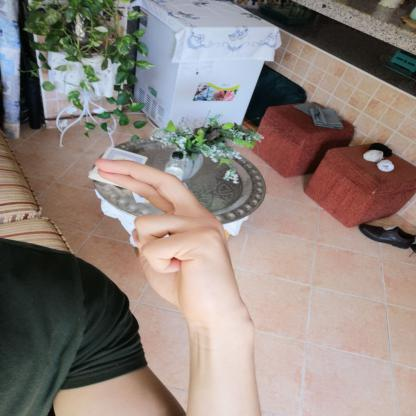ZAY: (82, 147, 252, 325)
